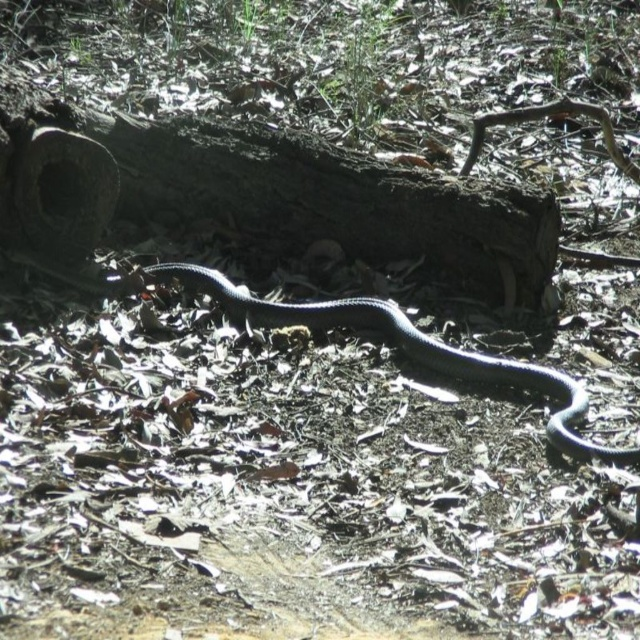Snake: (10, 253, 639, 468)
